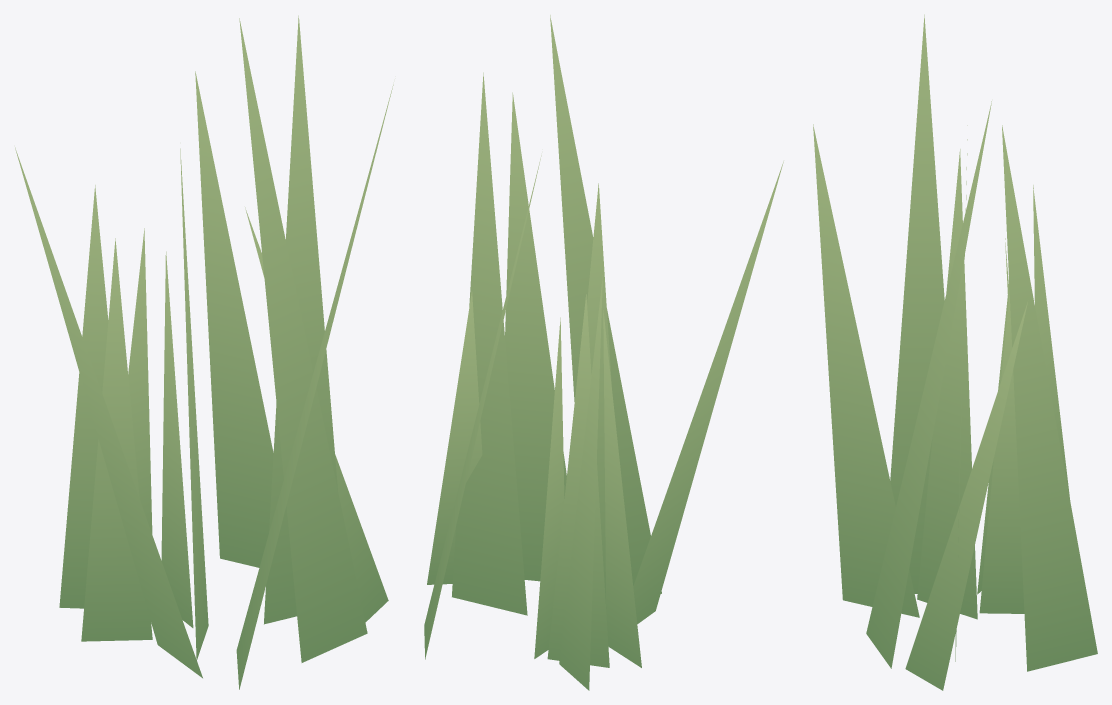
The model's file is grass_tall_far.glb.
The picture shows the model from 3 angles, left to right: view 1: azimuth 30°, elevation 25°; view 2: azimuth 150°, elevation 25°; view 3: azimuth 270°, elevation 25°; orthographic projection. The views are drawn at different scales.
Parts seen in each view (by area): view 1: grass_tall_far; view 2: grass_tall_far; view 3: grass_tall_far.
Boxes of the visible parts, bbox=[...] form: grass_tall_far: bbox=[15, 15, 393, 689]; grass_tall_far: bbox=[424, 15, 783, 690]; grass_tall_far: bbox=[813, 14, 1097, 690].
Bounding box in the file's own units: 0.6014 × 0.8887 × 0.4246.
